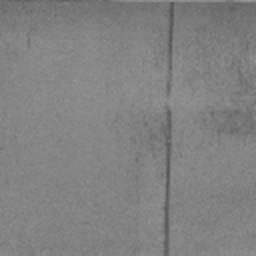Scratches: (163, 105, 172, 256), (164, 0, 177, 100)
